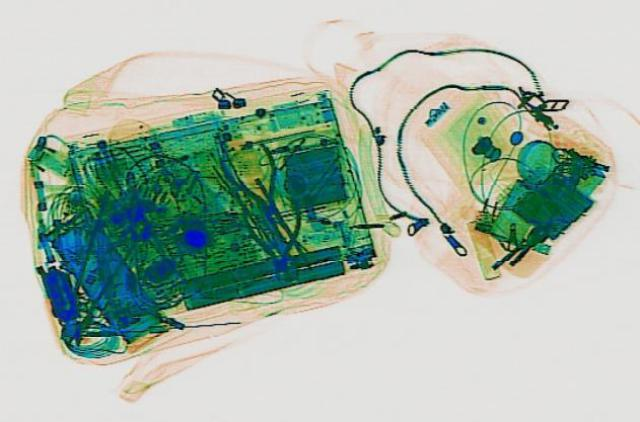Pliers: (209, 141, 301, 221), (236, 197, 314, 279)
